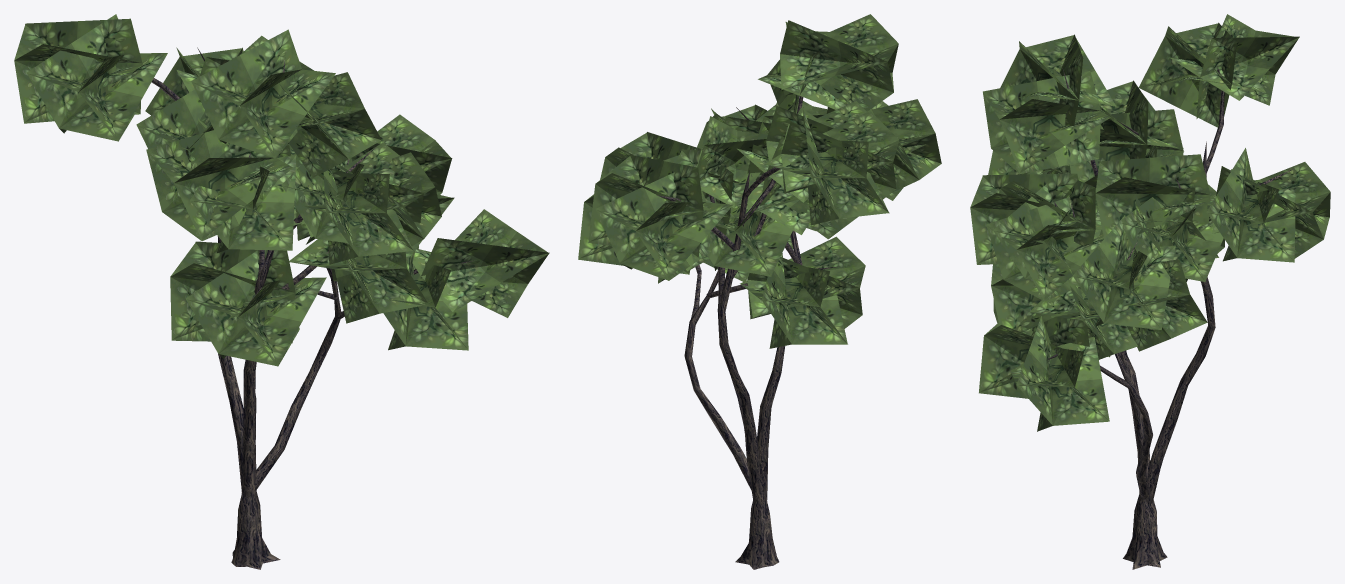
The model's file is dro_leafytree.glb.
3 renders of one model, left to right at view 1: azimuth 30°, elevation 25°; view 2: azimuth 150°, elevation 25°; view 3: azimuth 270°, elevation 25°, orthographic. The views are drawn at different scales.
Parts seen in each view (by area): view 1: dro_leafytree; view 2: dro_leafytree; view 3: dro_leafytree.
Part boxes in pixels (x1,y1,x2,y2): dro_leafytree: [14, 14, 549, 569]; dro_leafytree: [578, 14, 941, 569]; dro_leafytree: [970, 14, 1330, 569].
Bounding box in the file's own units: 1.08 × 1.39 × 0.9021.
2 materials, 2 textured.
